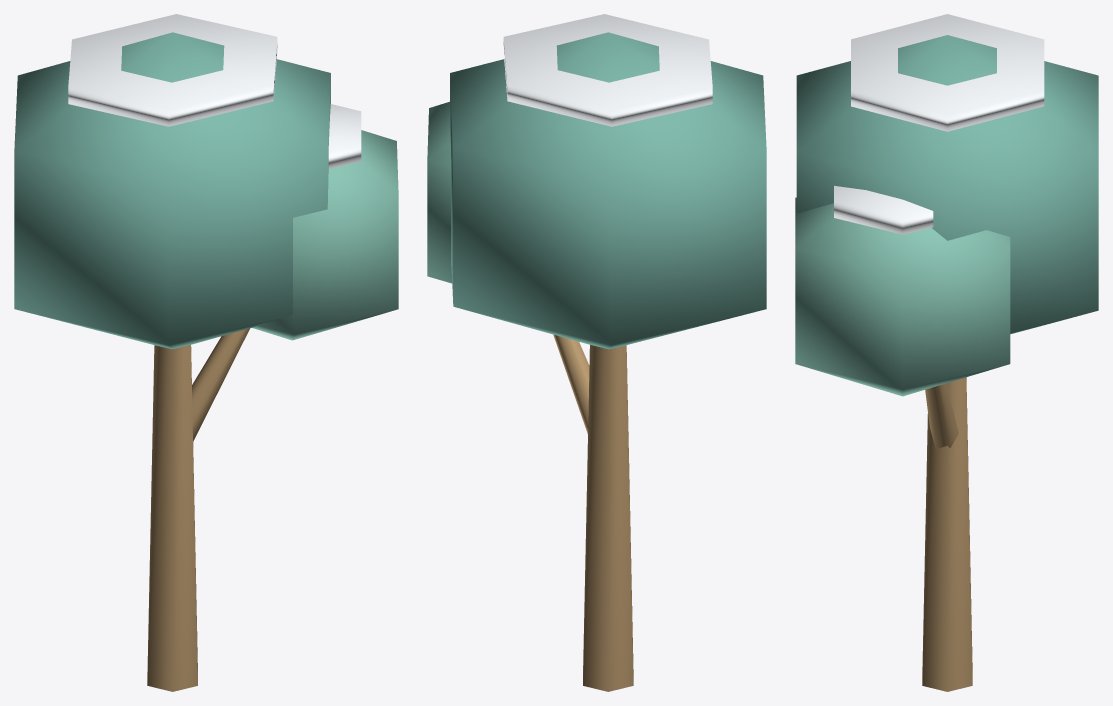
Rendered from tree_sapling_winter_low.glb.
The picture shows the model from 3 angles, left to right: view 1: azimuth 30°, elevation 25°; view 2: azimuth 150°, elevation 25°; view 3: azimuth 270°, elevation 25°; orthographic projection.
Bounding box in the file's own units: 0.9255 × 1.59 × 0.6775.
